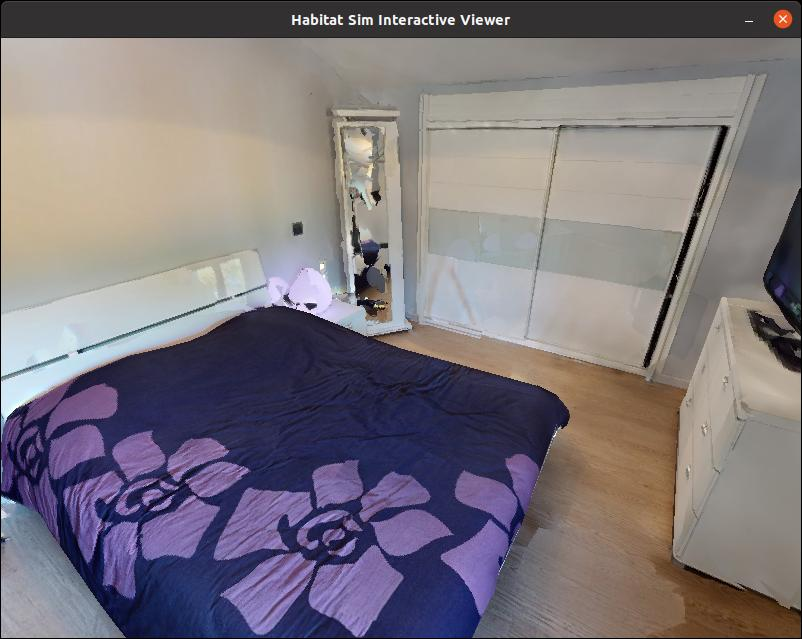bed: (0, 261, 583, 639)
